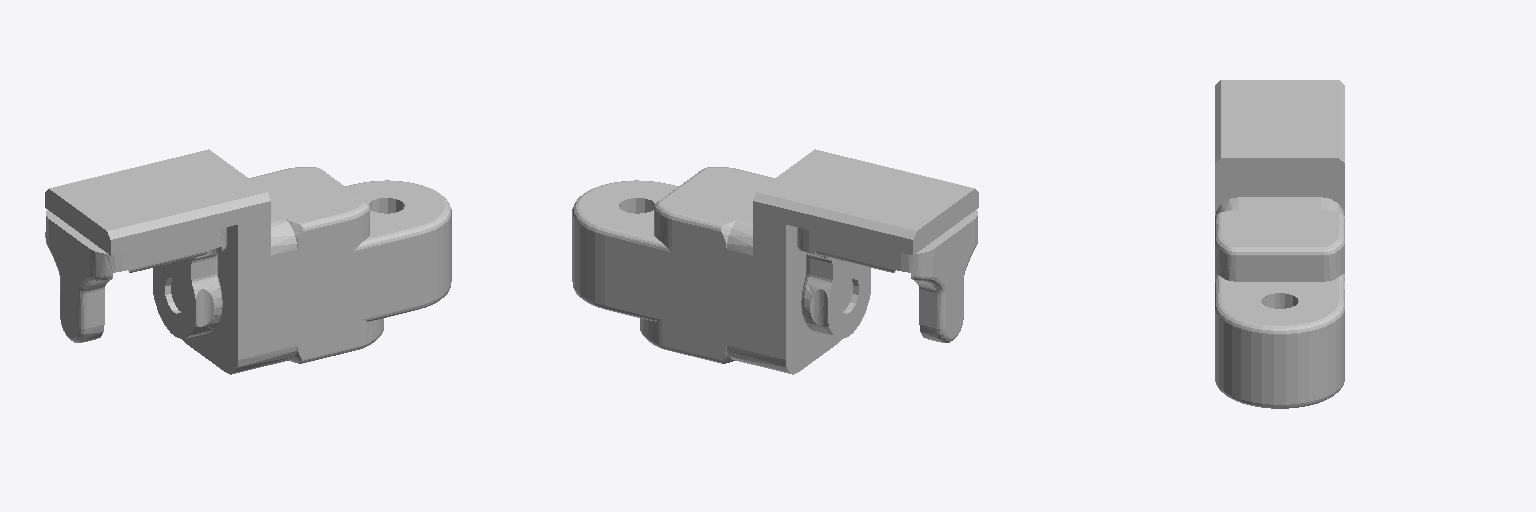
File: tesollo_right_rl_dg_1_1_visuals_rl_dg_1_1_mesh.obj
3 views of the same model, side by side, from view 1: azimuth 30°, elevation 25°; view 2: azimuth 150°, elevation 25°; view 3: azimuth 270°, elevation 25° (orthographic).
Size of the model in its own units: 0.0626 by 0.0287 by 0.019.